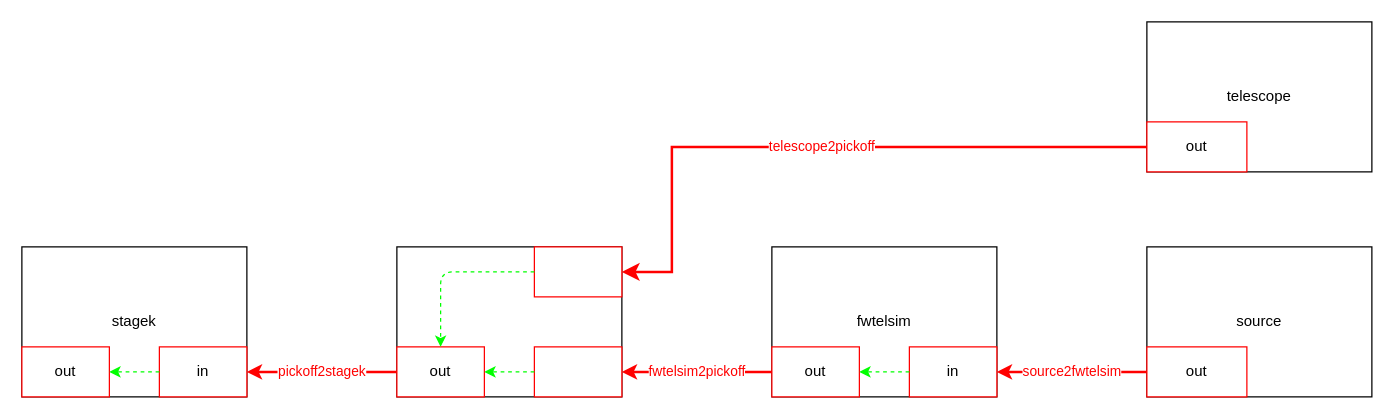
Image size: 1394x419. Some labels were removed from this diagram. Here are the shapes that lost their labels. From the top down, the box of each, then its label:
(533, 246, 622, 297): tel
(396, 246, 622, 397): pickoff
(533, 346, 622, 397): lab
